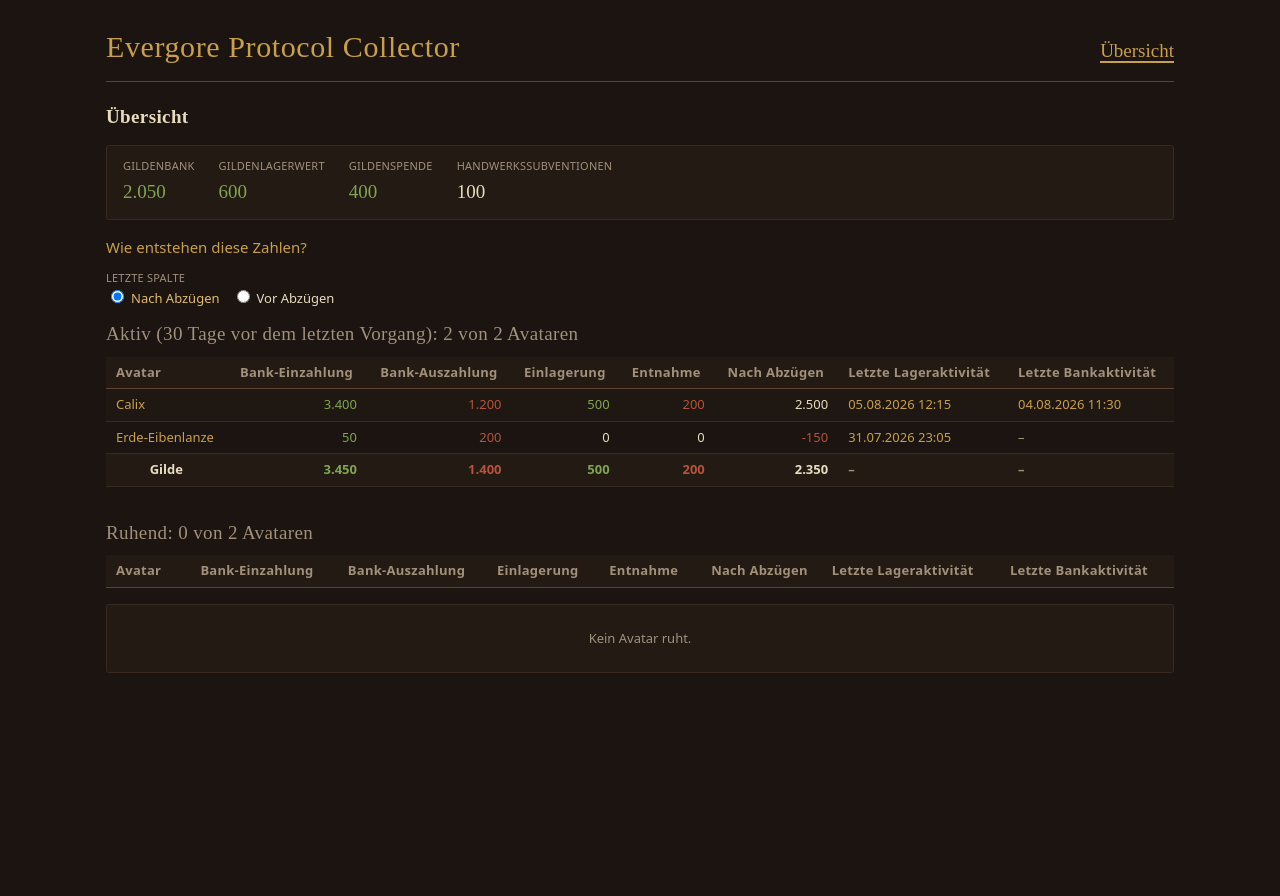
App › opens the explanation page when the member follows its link from the overview
The width and height of the screenshot is (1280, 896).
Click the link "Wie entstehen diese Zahlen?": point(206, 247) [106,237,307,257]
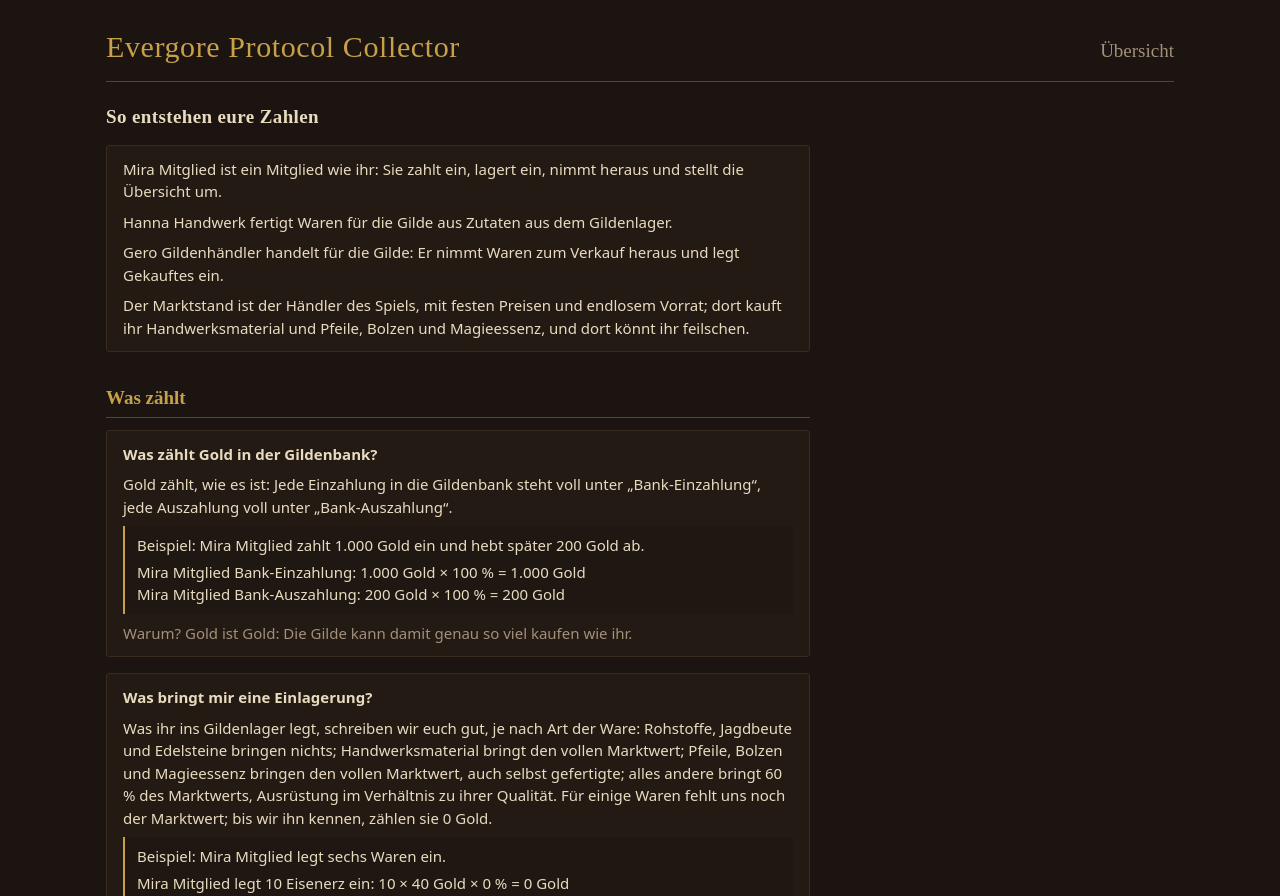
Now the heading with test id "view-title" reads "So entstehen eure Zahlen", box [106,106,319,127]
